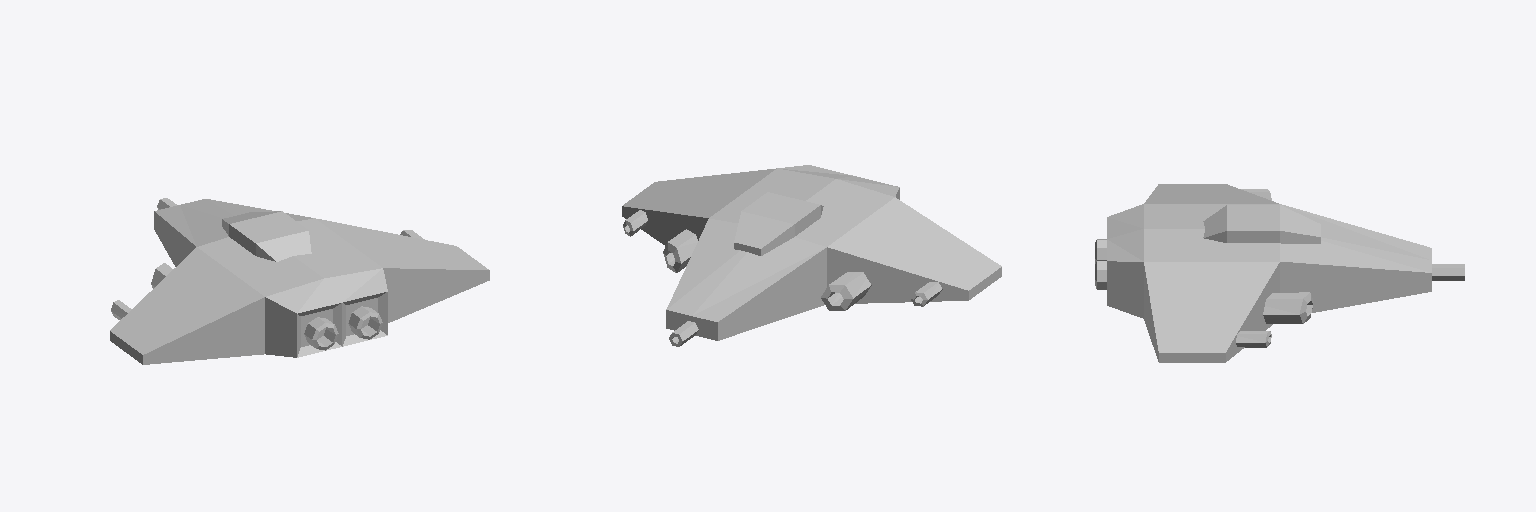
The model's file is Vanguard.obj.
3 renders of one model, left to right at view 1: azimuth 30°, elevation 25°; view 2: azimuth 150°, elevation 25°; view 3: azimuth 270°, elevation 25°, orthographic.
Visible parts, largest first — view 1: Mesh; view 2: Mesh; view 3: Mesh.
Part boxes in pixels (bbox=[...]): Mesh: bbox=[110, 198, 489, 364]; Mesh: bbox=[622, 165, 1001, 346]; Mesh: bbox=[1095, 184, 1464, 362].
Bounding box in the file's own units: 13.03 × 2.75 × 12.01.